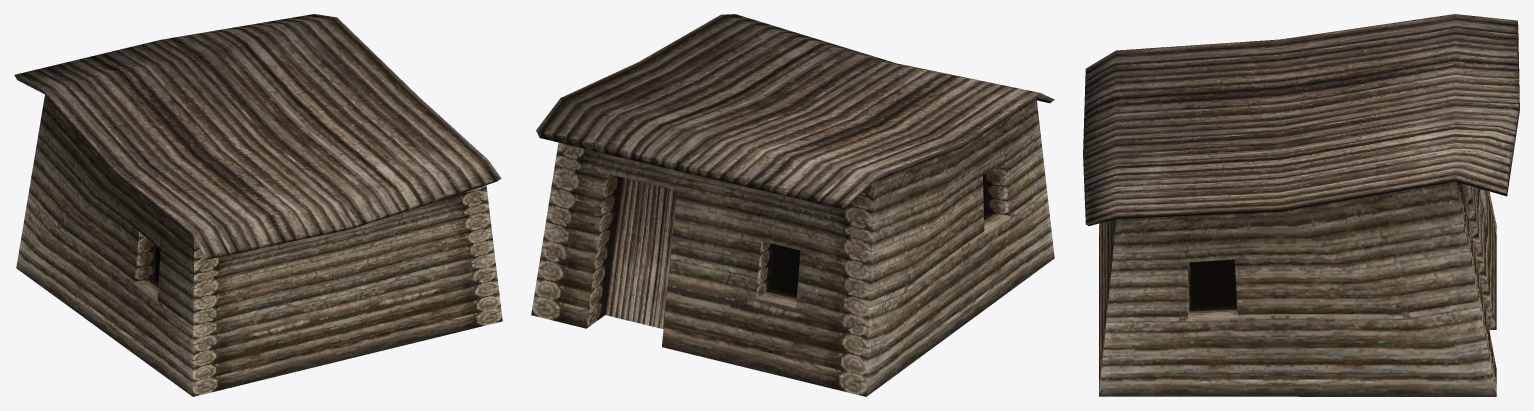
Rendered from OZ_08_mi_shed03A.glb.
The picture shows the model from 3 angles, left to right: view 1: azimuth 30°, elevation 25°; view 2: azimuth 150°, elevation 25°; view 3: azimuth 270°, elevation 25°; orthographic projection. The views are drawn at different scales.
Visible parts, largest first — view 1: OM_08_mi_shed03A; view 2: OM_08_mi_shed03A; view 3: OM_08_mi_shed03A.
Part boxes in pixels (bbox=[...]): OM_08_mi_shed03A: bbox=[14, 14, 502, 396]; OM_08_mi_shed03A: bbox=[531, 14, 1054, 396]; OM_08_mi_shed03A: bbox=[1083, 14, 1519, 396].
Bounding box in the file's own units: 4.37 × 2.55 × 4.7.
Materials: 1 (1 with a texture image).
